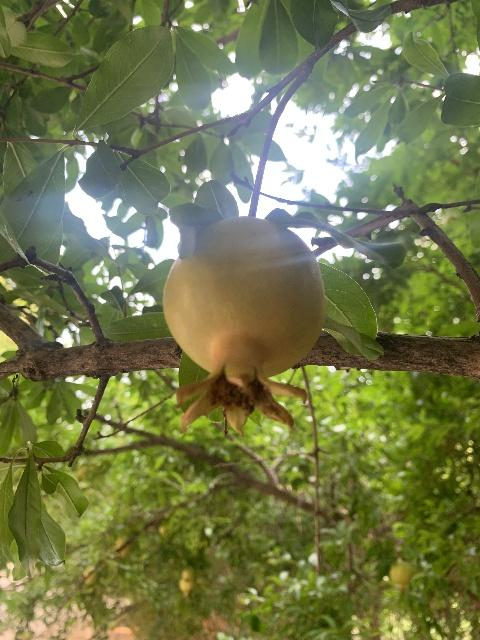mid-growth: (162, 216, 326, 437), (388, 560, 415, 590)
